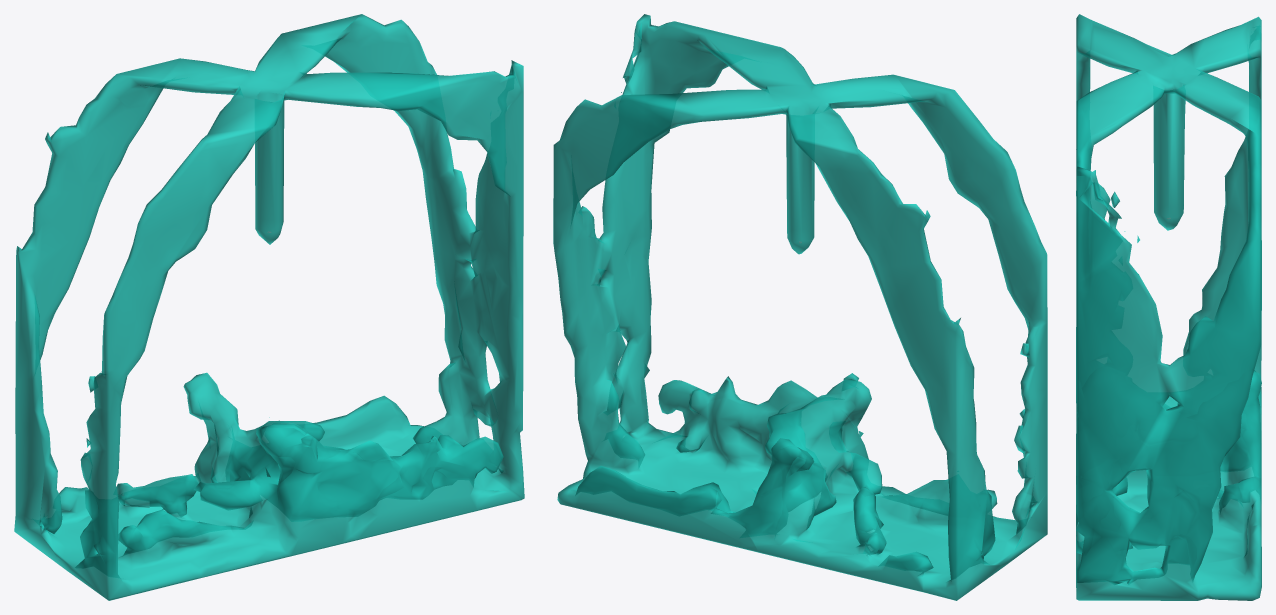
The picture shows the model from 3 angles, left to right: view 1: azimuth 30°, elevation 25°; view 2: azimuth 150°, elevation 25°; view 3: azimuth 270°, elevation 25°; orthographic projection. The views are drawn at different scales.
Parts seen in each view (by area): view 1: Liquid_Domain; view 2: Liquid_Domain; view 3: Liquid_Domain.
Part boxes in pixels (x1,y1,x2,y2): Liquid_Domain: [14, 14, 524, 600]; Liquid_Domain: [553, 14, 1047, 600]; Liquid_Domain: [1076, 14, 1261, 600].
Size of the model in its own units: 884 by 884 by 345.
